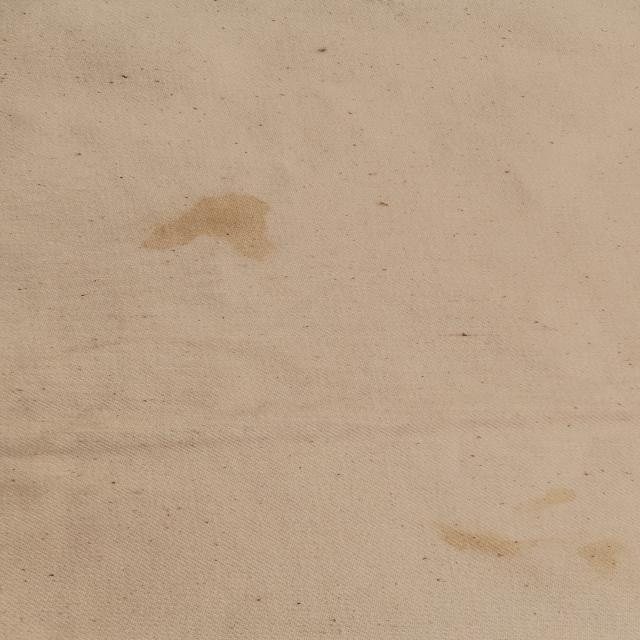taaaches: (123, 174, 315, 276), (396, 496, 544, 571), (574, 533, 622, 571)
